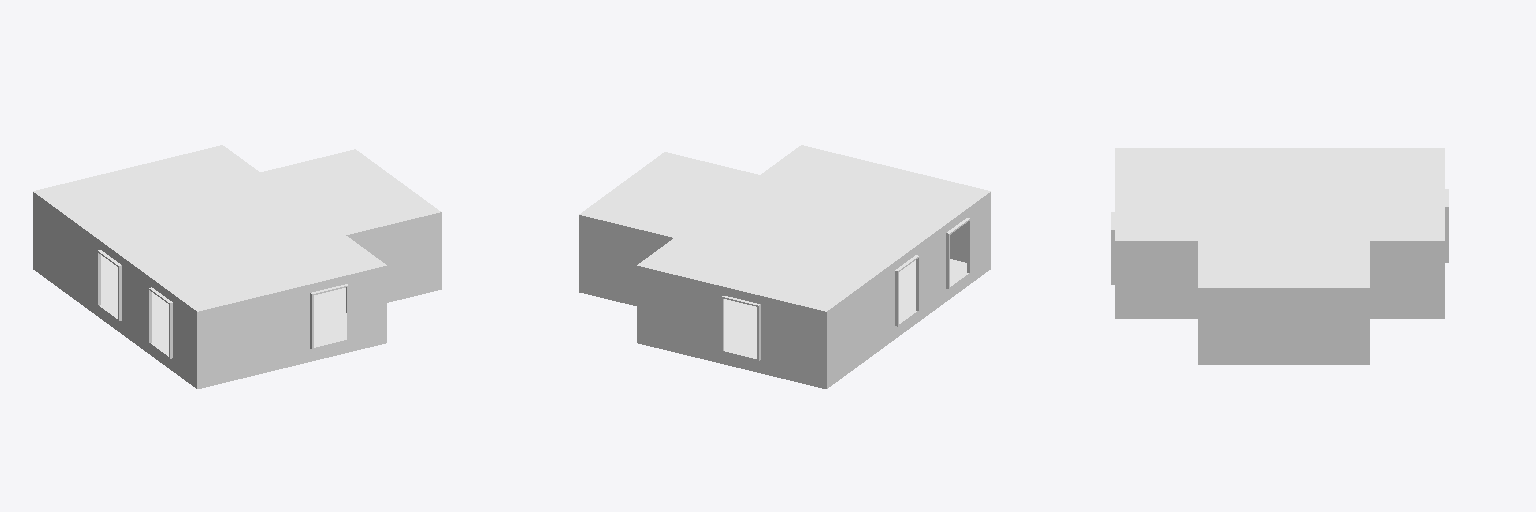
File: abandoned_brick_room.obj
3 renders of one model, left to right at view 1: azimuth 30°, elevation 25°; view 2: azimuth 150°, elevation 25°; view 3: azimuth 270°, elevation 25°, orthographic.
Visible parts, largest first — view 1: Object_2; view 2: Object_2; view 3: Object_2.
Boxes of the visible parts, x1,y1,x2,y2 form: Object_2: [33, 145, 441, 388]; Object_2: [579, 145, 990, 388]; Object_2: [1111, 148, 1448, 364].
Bounding box in the file's own units: 10.75 × 2.76 × 10.88.